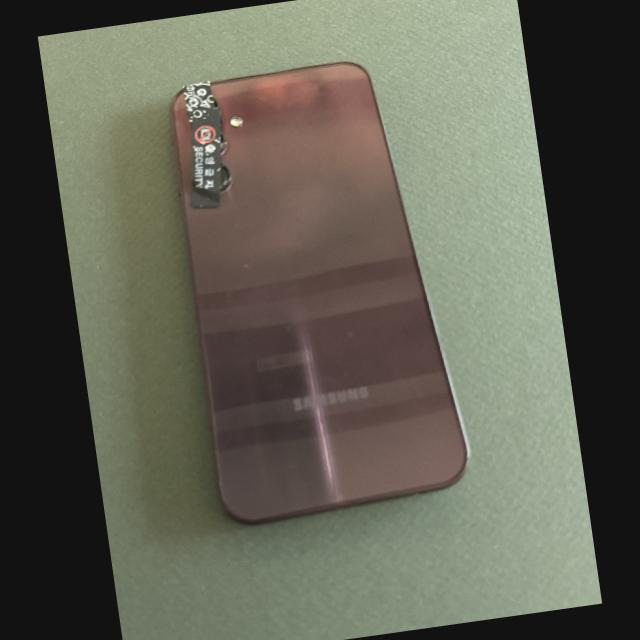lens: (219, 164, 232, 190)
phone: (171, 63, 468, 523)
sticker: (191, 108, 222, 211), (182, 79, 220, 131)
